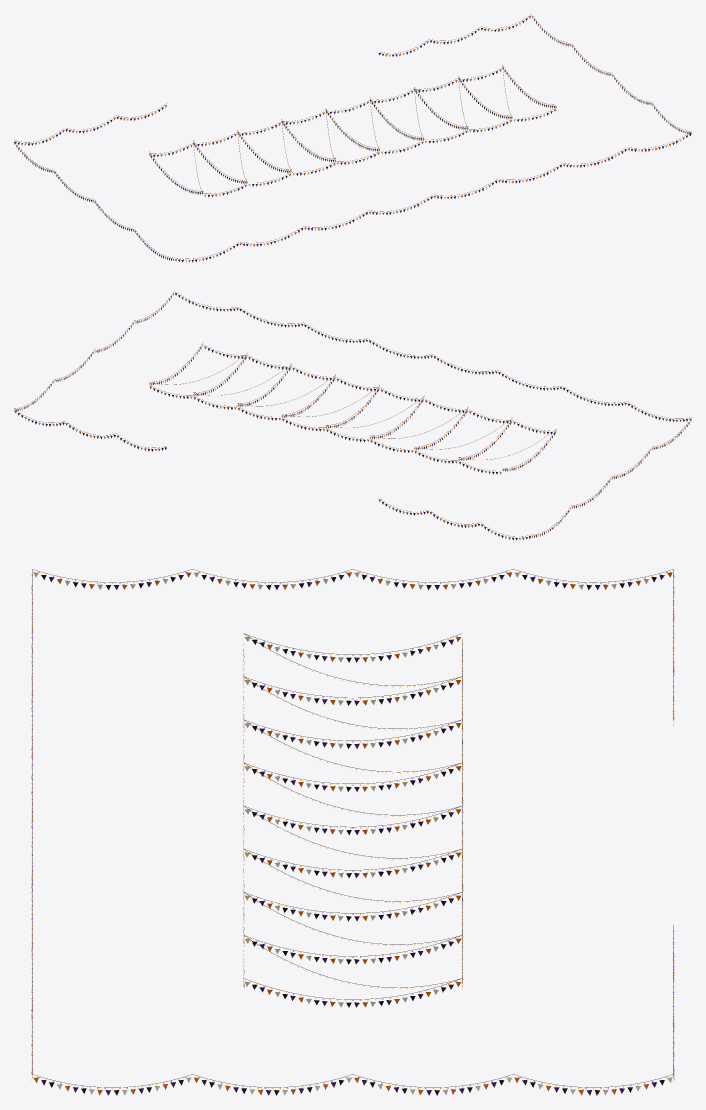
File: V03_VenueLights.glb
3 renders of one model, top to bottom at view 1: azimuth 30°, elevation 25°; view 2: azimuth 150°, elevation 25°; view 3: azimuth 270°, elevation 25°, orthographic. The views are drawn at different scales.
Parts seen in each view (by area): view 1: V03_VenueLights; view 2: V03_VenueLights; view 3: V03_VenueLights.
Boxes of the visible parts, box(x1,y1,x2,y2) form: V03_VenueLights: box(14, 14, 691, 262); V03_VenueLights: box(14, 291, 691, 540); V03_VenueLights: box(31, 569, 674, 1095).
Size of the model in its own units: 1 by 0.0345 by 0.5379.
